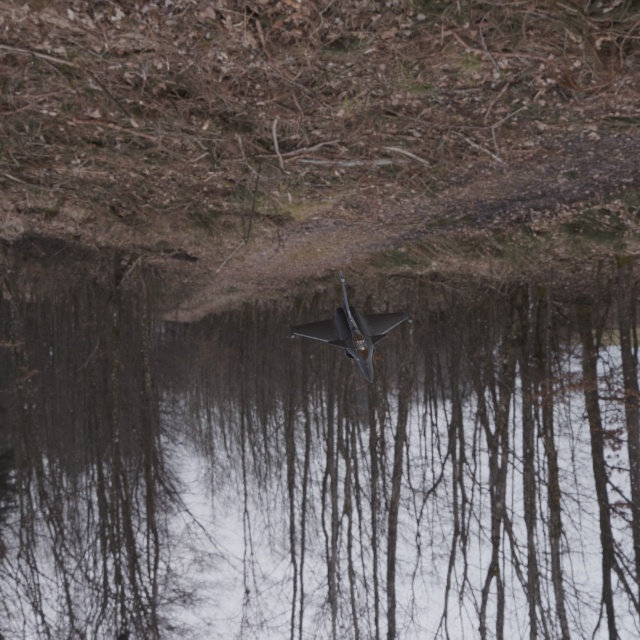dassault_rafale: (283, 262, 442, 399)
